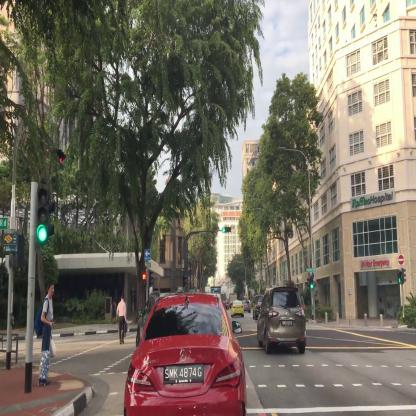green_traffic_light: (36, 188, 48, 243), (222, 226, 231, 232), (310, 275, 313, 288)
